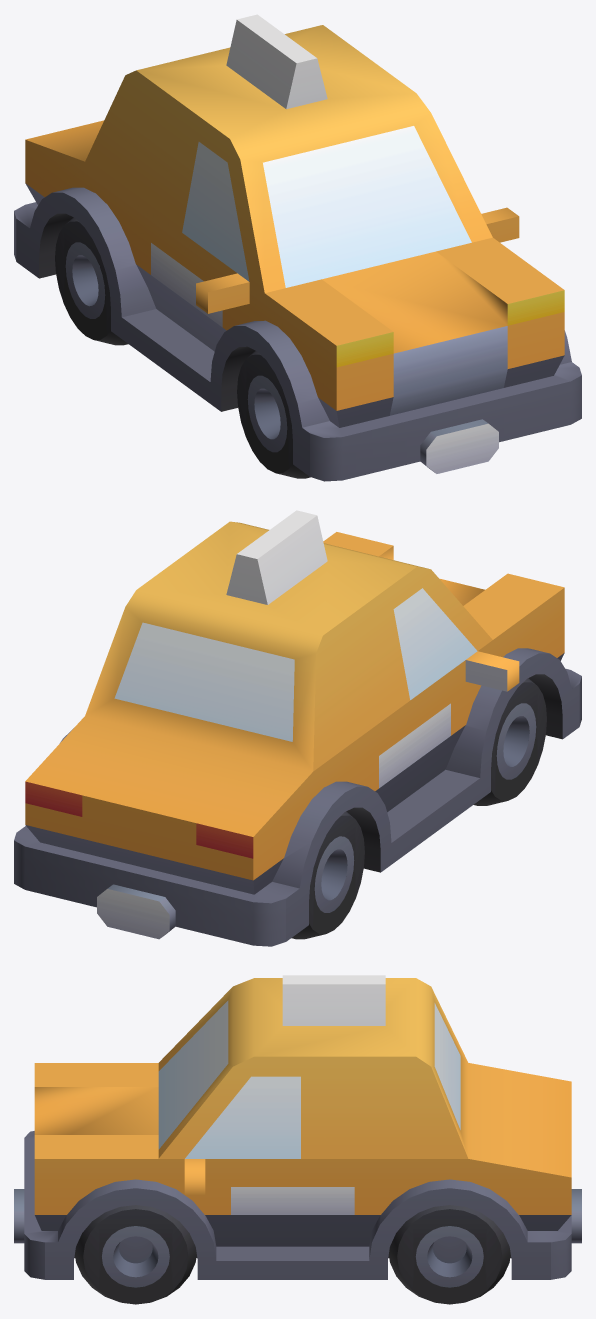
File: k-car-taxi.glb
3 renders of one model, top to bottom at view 1: azimuth 30°, elevation 25°; view 2: azimuth 150°, elevation 25°; view 3: azimuth 270°, elevation 25°, orthographic. The views are drawn at different scales.
Parts seen in each view (by area): view 1: body, wheel-front-right, wheel-back-right; view 2: body, wheel-back-right, wheel-front-right; view 3: body, wheel-back-left, wheel-front-left.
Boxes of the visible parts, x1=… form: body: x1=14, y1=14, x2=581, y2=481; wheel-front-right: x1=237, y1=350, x2=310, y2=478; wheel-back-right: x1=55, y1=217, x2=128, y2=345; body: x1=14, y1=510, x2=581, y2=946; wheel-back-right: x1=291, y1=811, x2=364, y2=939; wheel-front-right: x1=473, y1=678, x2=546, y2=805; body: x1=14, y1=975, x2=581, y2=1279; wheel-back-left: x1=388, y1=1205, x2=510, y2=1304; wheel-front-left: x1=75, y1=1205, x2=196, y2=1304.
Bounding box in the file's own units: 1.5 × 1.5 × 2.75.
1 material, 1 textured.
